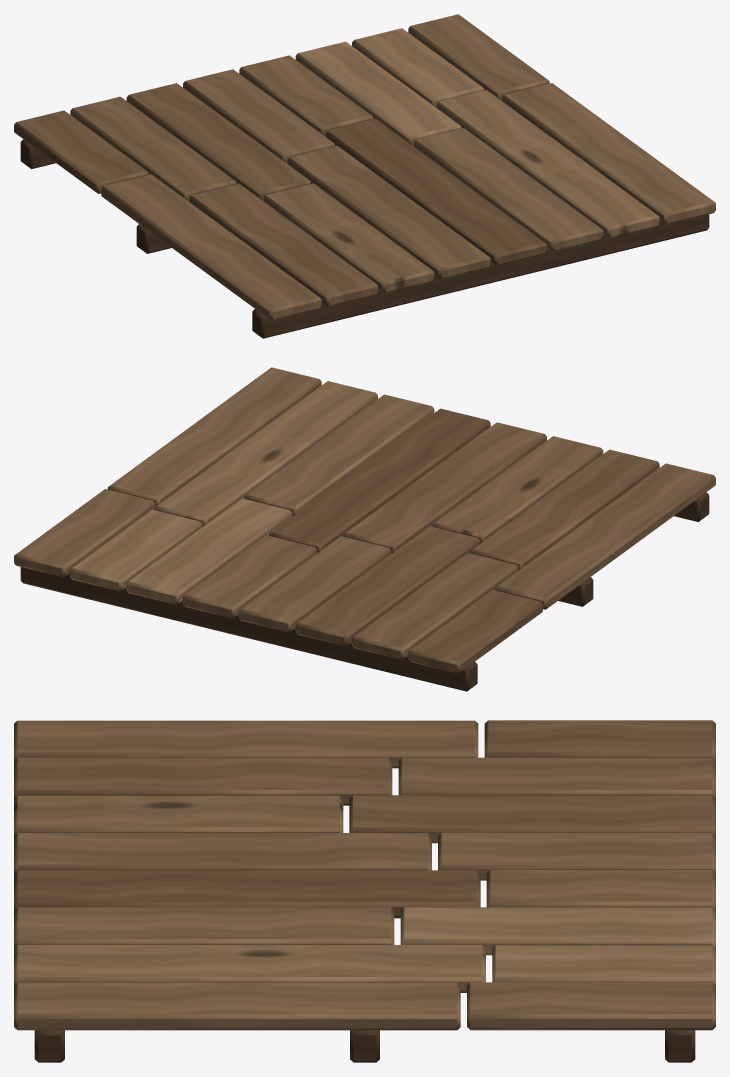
File: deck-tile.glb
3 renders of one model, top to bottom at view 1: azimuth 30°, elevation 25°; view 2: azimuth 150°, elevation 25°; view 3: azimuth 270°, elevation 25°, orthographic. The views are drawn at different scales.
Visible parts, largest first — view 1: deck-tile; view 2: deck-tile; view 3: deck-tile.
Part boxes in pixels (<box>): deck-tile: <box>14,14,715,338</box>; deck-tile: <box>14,367,715,691</box>; deck-tile: <box>14,720,715,1062</box>.
Bounding box in the file's own units: 3.98 × 0.2997 × 3.97.
1 material, 1 textured.
